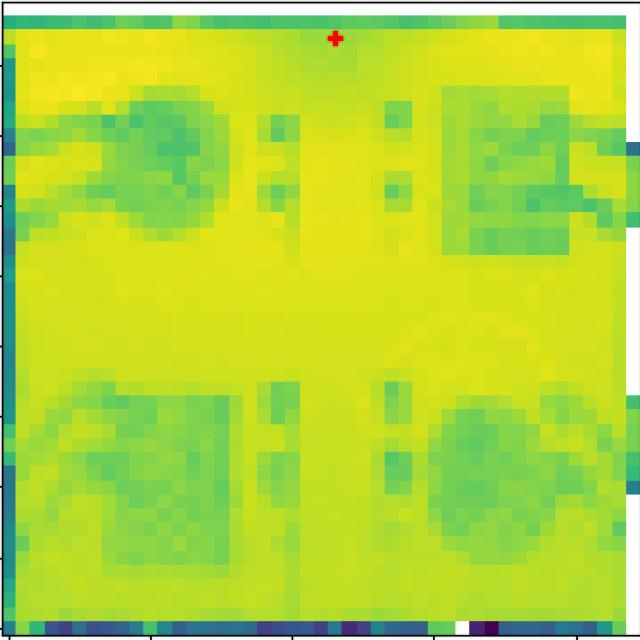Concrete: (440, 86, 570, 256)
Glass: (102, 85, 231, 242)
Metal: (433, 392, 559, 568)
Wood: (104, 392, 237, 568)
